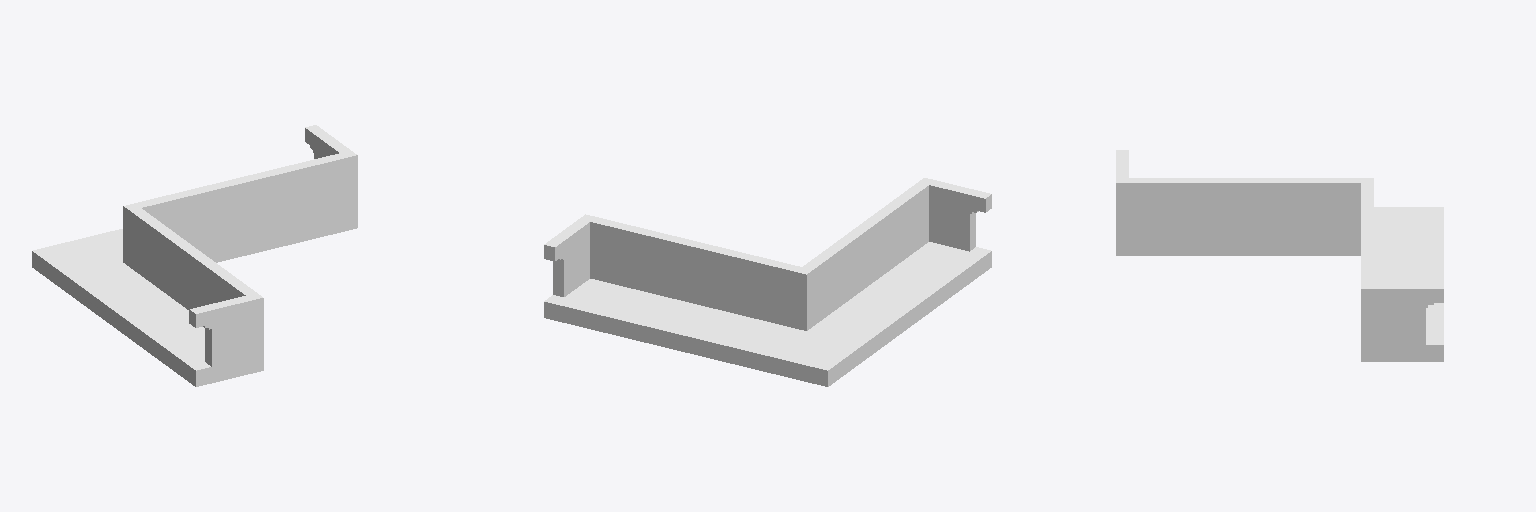
Rendered from CrossRoom-0.obj.
3 views of the same model, side by side, from view 1: azimuth 30°, elevation 25°; view 2: azimuth 150°, elevation 25°; view 3: azimuth 270°, elevation 25° (orthographic).
Parts seen in each view (by area): view 1: object 1; view 2: object 1; view 3: object 1.
Part boxes in pixels (x1,y1,x2,y2): object 1: (32, 125, 357, 386); object 1: (544, 178, 991, 386); object 1: (1116, 150, 1443, 361).
Bounding box in the file's own units: 12.6 × 3.1 × 12.6.